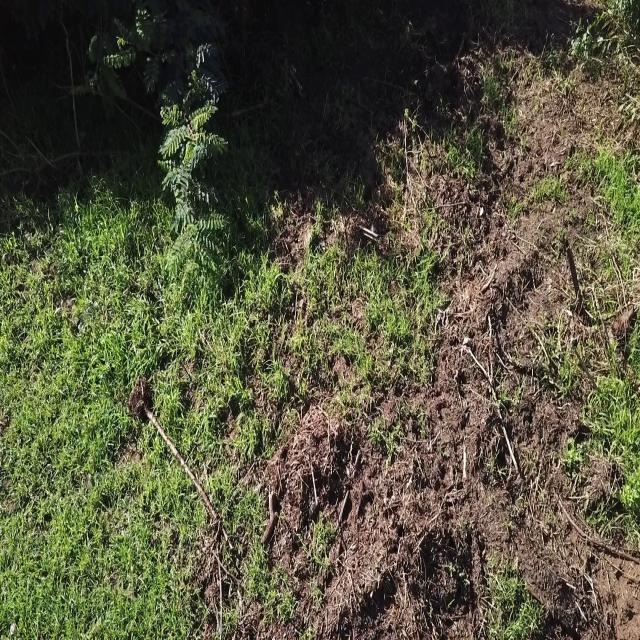Mysore-Thorn-Weed: (73, 0, 238, 280)
